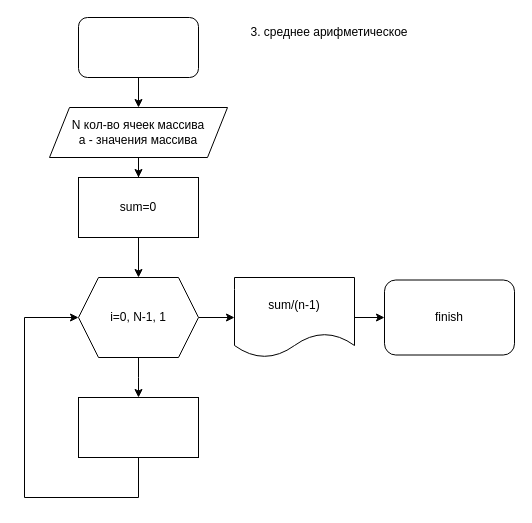
Some shapes in this 532 by 523 pixel diagram are drawn without their labels. Each missing label, with the box of its shape:
start: (78, 16, 198, 78)
sum=sum+a[i]: (78, 396, 198, 458)
